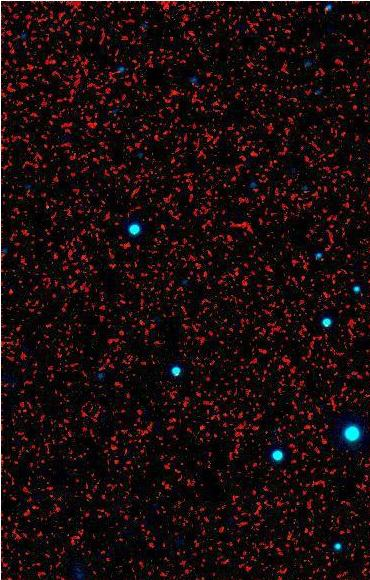star: (33, 194, 63, 224)
